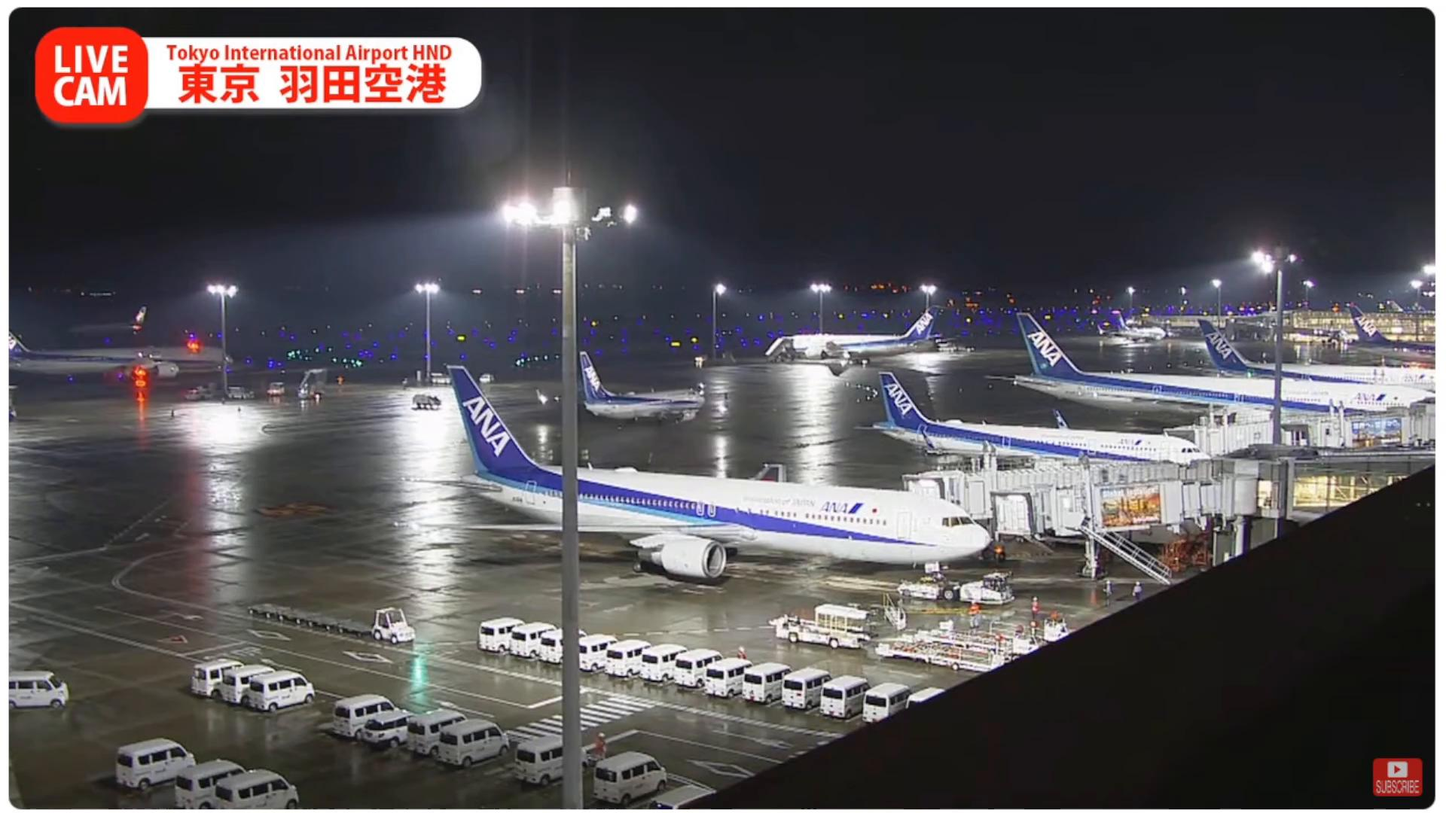Aerobridge: (992, 475, 1249, 541), (899, 461, 1219, 494)
Airplane: (386, 359, 992, 588)
Dolly: (245, 595, 373, 641)
JCPL: (863, 638, 1018, 673), (895, 625, 1050, 656)
Skyloader: (758, 598, 872, 653)
Tow Tug: (896, 572, 1024, 609)
Tractor: (369, 607, 423, 645)
Window: (1293, 468, 1419, 517)
